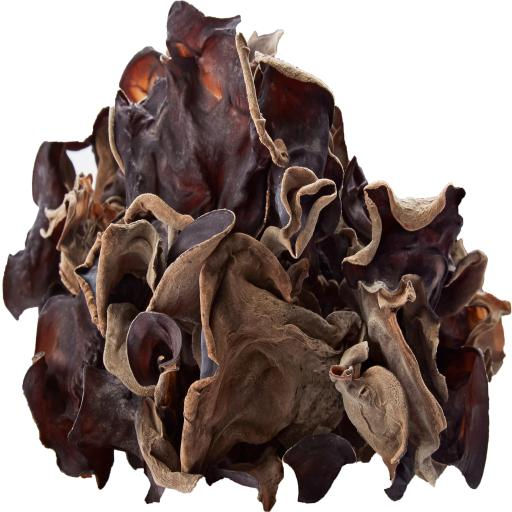Wood Ear Mushroom: (0, 0, 512, 509)
